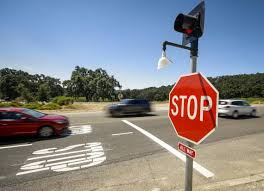stop: (164, 68, 220, 146)
